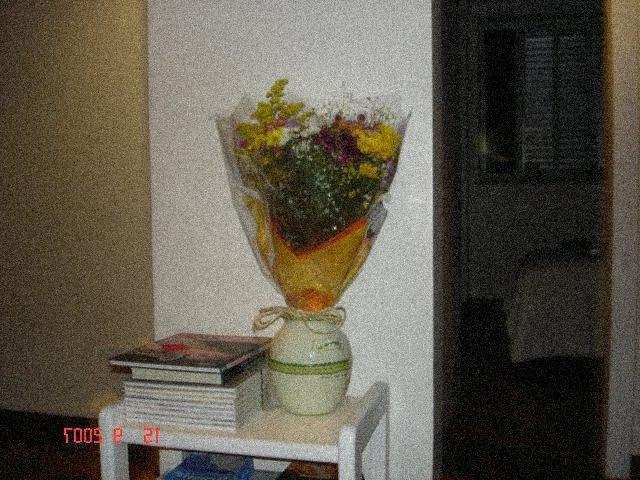Matera: (253, 103, 395, 421)
